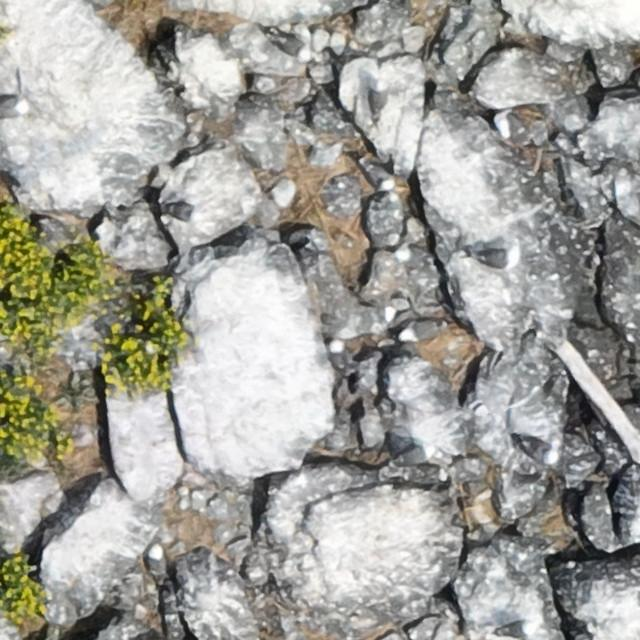umineko: (392, 245, 432, 274), (366, 75, 390, 123), (360, 160, 392, 189), (273, 35, 309, 58), (400, 322, 441, 342), (471, 249, 511, 268), (522, 438, 555, 460), (396, 445, 432, 464), (164, 202, 197, 220), (148, 544, 166, 575), (0, 98, 22, 117), (499, 622, 528, 636)
